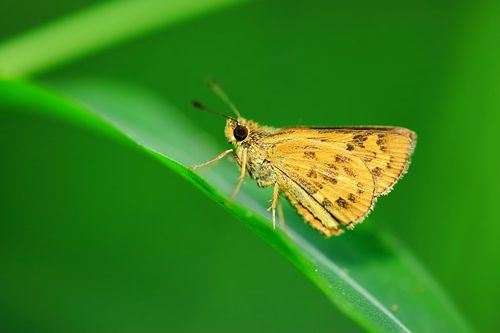Hesperiidae: (190, 72, 419, 246)
